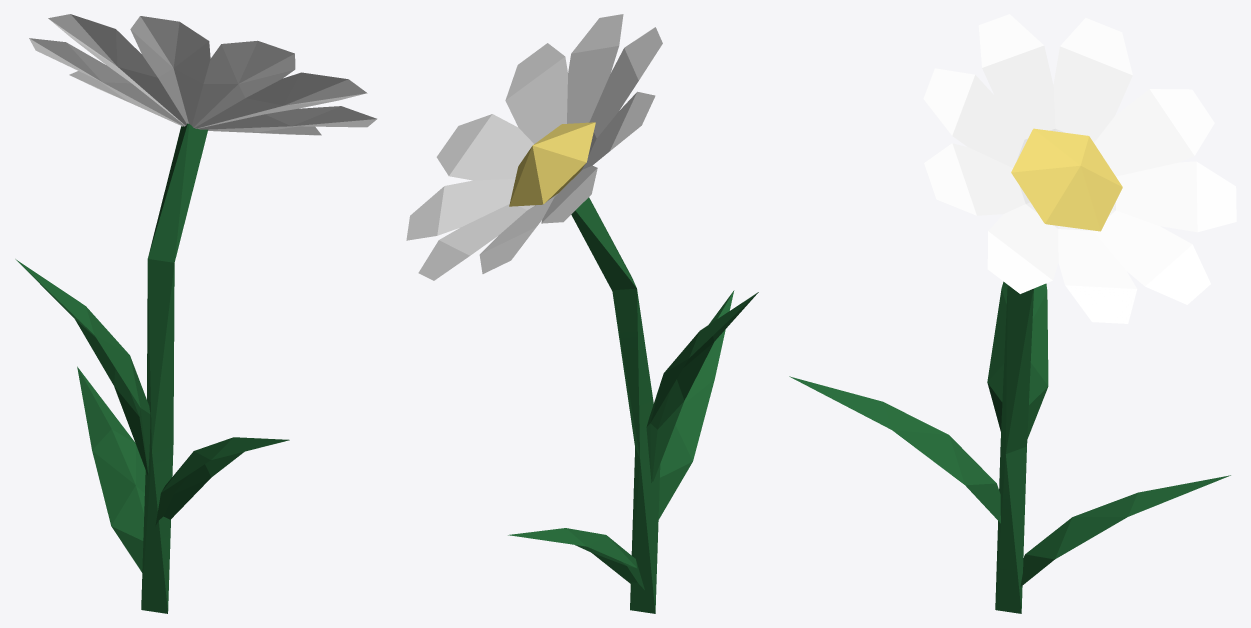
File: Hilly_Prop_Flower_Daisy.obj
3 views of the same model, side by side, from view 1: azimuth 30°, elevation 25°; view 2: azimuth 150°, elevation 25°; view 3: azimuth 270°, elevation 25° (orthographic). The views are drawn at different scales.
Parts seen in each view (by area): view 1: object5, object4, object2, object1, object3; view 2: object5, object4, object1, object3, object2; view 3: object5, object4, object3, object2, object1.
Part boxes in pixels (box(x1,y1,x2,y2)): object5: box(29, 14, 376, 135); object4: box(141, 123, 207, 613); object2: box(77, 366, 145, 572); object1: box(15, 259, 150, 475); object3: box(155, 437, 289, 525); object5: box(406, 14, 662, 280); object4: box(571, 197, 660, 613); object1: box(646, 292, 758, 482); object3: box(658, 290, 734, 519); object2: box(508, 528, 644, 589); object5: box(923, 14, 1236, 323); object4: box(995, 285, 1034, 613); object3: box(789, 376, 1000, 523); object2: box(1020, 475, 1230, 586); object1: box(987, 281, 1048, 438).
Bounding box in the file's own units: 0.3185 × 0.5257 × 0.3644.
